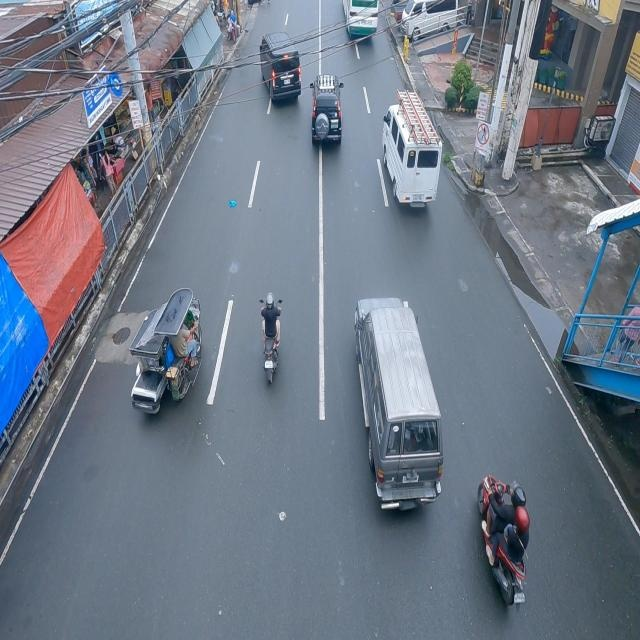Motorcycle: (476, 474, 532, 602), (256, 292, 286, 390)
Van: (351, 286, 449, 498), (381, 100, 444, 212), (260, 28, 305, 102)
